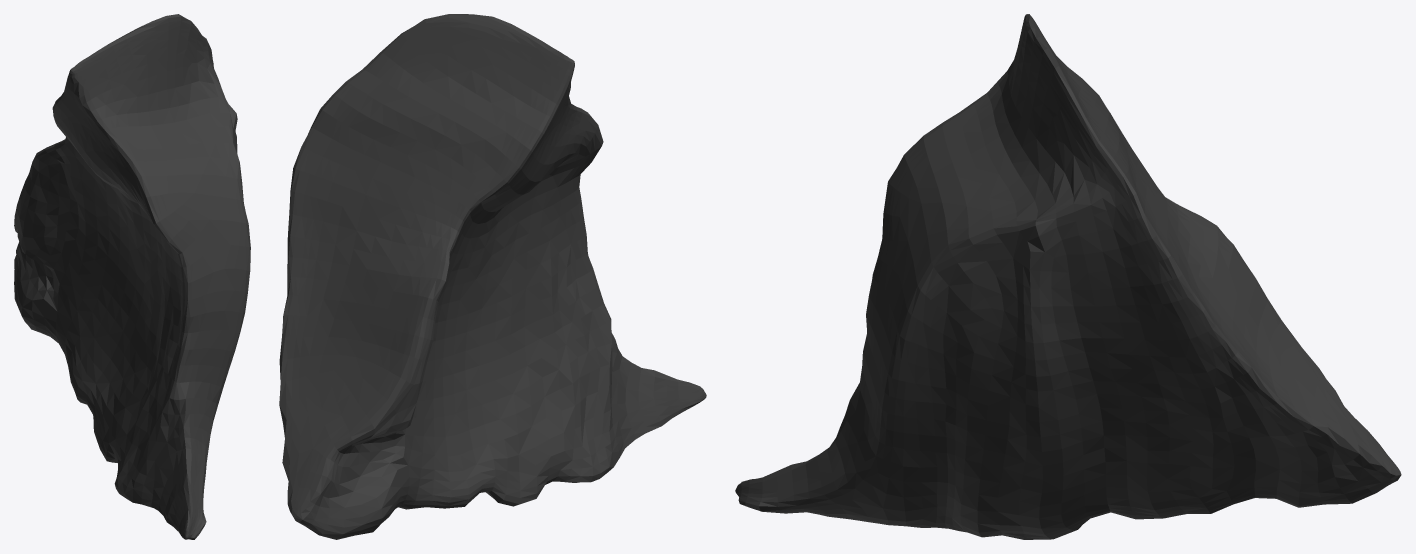
File: L_lung_caudal_part_cranial_lung_lobe_LOW.glb
3 renders of one model, left to right at view 1: azimuth 30°, elevation 25°; view 2: azimuth 150°, elevation 25°; view 3: azimuth 270°, elevation 25°, orthographic. The views are drawn at different scales.
Parts seen in each view (by area): view 1: L_lung_caudal_part_cranial_lung_lobe_LOW; view 2: L_lung_caudal_part_cranial_lung_lobe_LOW; view 3: L_lung_caudal_part_cranial_lung_lobe_LOW.
Part boxes in pixels (x1,y1,x2,y2): L_lung_caudal_part_cranial_lung_lobe_LOW: (14, 14, 250, 539); L_lung_caudal_part_cranial_lung_lobe_LOW: (279, 14, 706, 539); L_lung_caudal_part_cranial_lung_lobe_LOW: (735, 14, 1401, 539).
Size of the model in its own units: 0.00436 by 0.00908 by 0.0103.
1 material, 1 textured.
